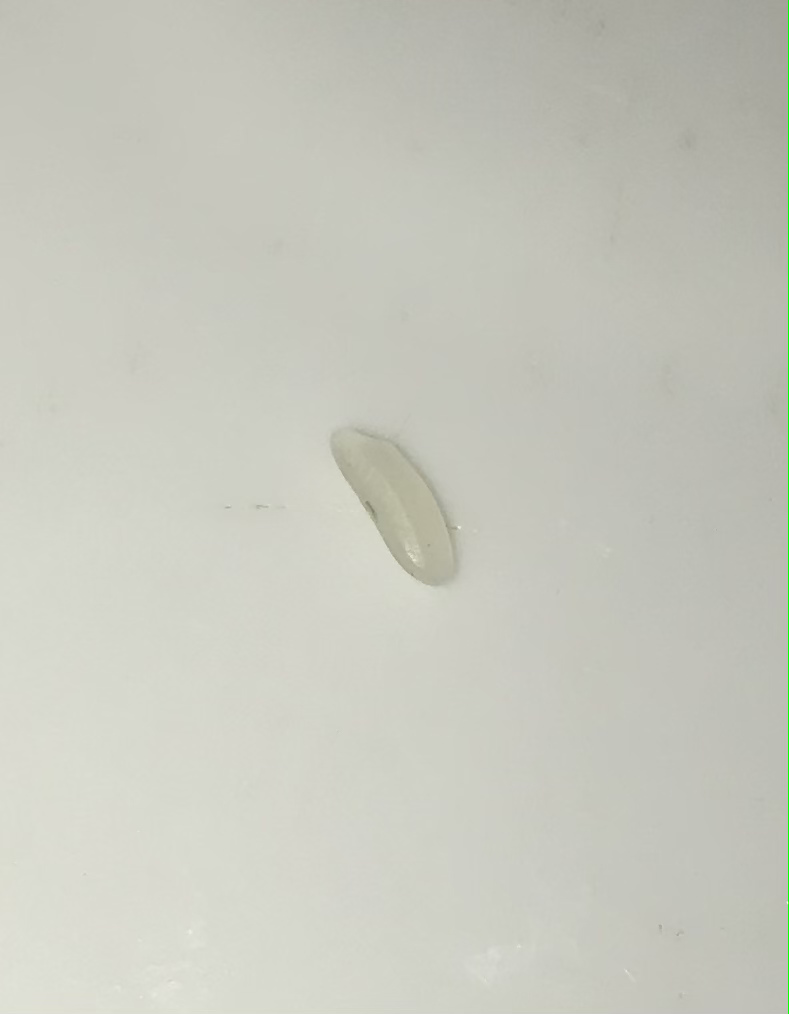Gao Ngoc Troi: (329, 398, 482, 615)
